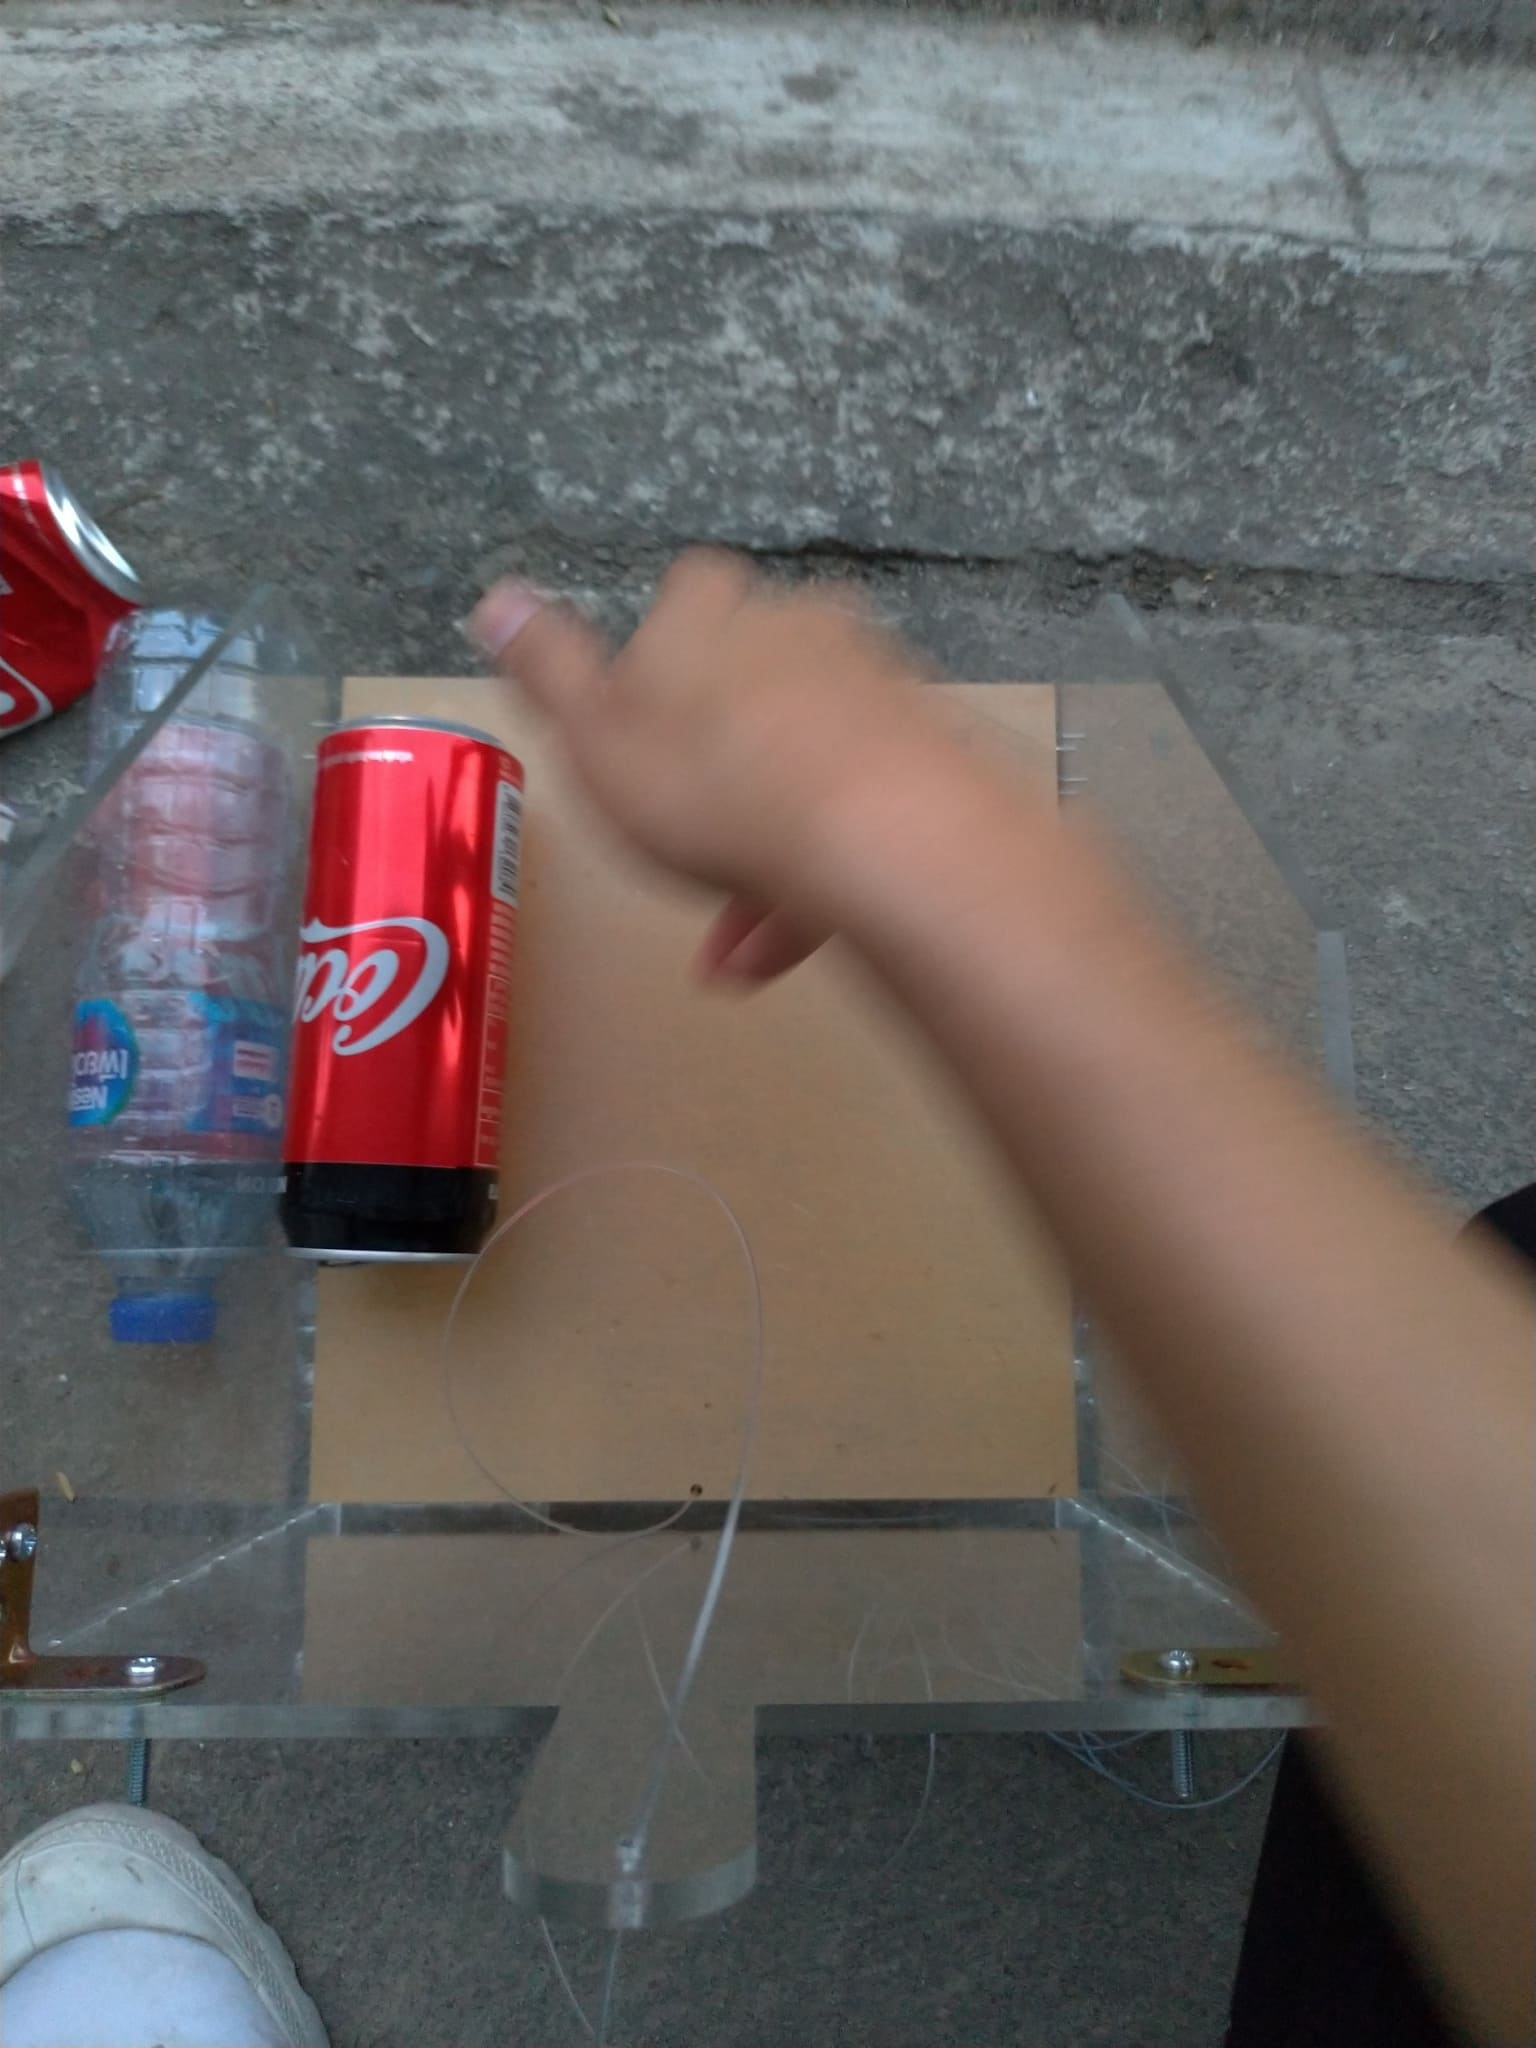AlCan: (286, 706, 532, 1280), (2, 458, 153, 721)
PlasticBottle: (73, 600, 298, 1345)
